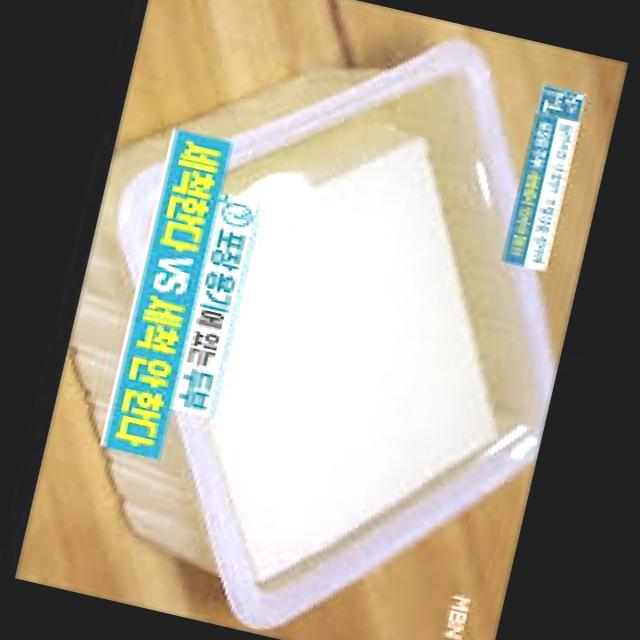tof: (131, 93, 518, 626)
